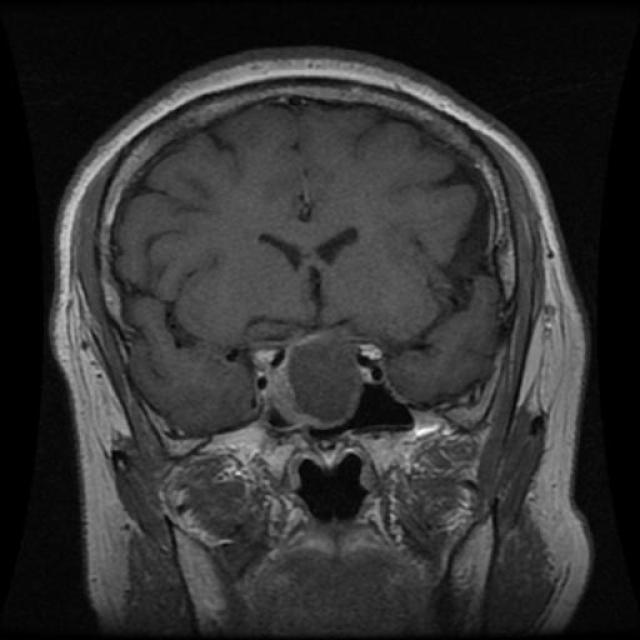pituitary: (353, 415, 464, 470)
